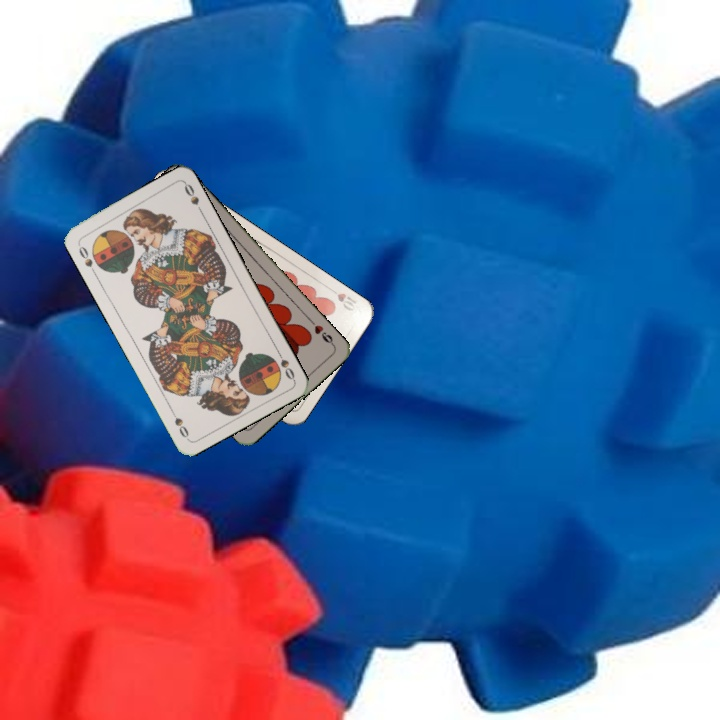H10: (325, 284, 359, 314)
H9: (305, 316, 337, 348)
SO: (272, 345, 297, 383), (74, 239, 96, 270)
